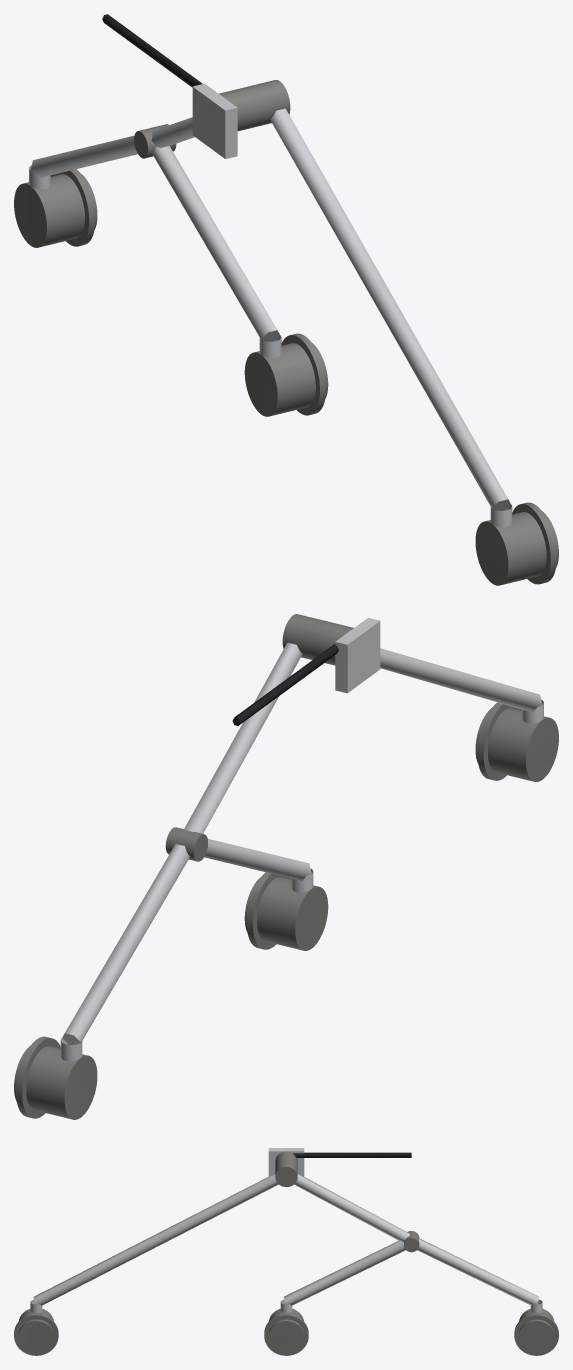
The model's file is rover16_rocker_bogie_s.glb.
3 views of the same model, one above another, from view 1: azimuth 30°, elevation 25°; view 2: azimuth 150°, elevation 25°; view 3: azimuth 270°, elevation 25° (orthographic). The views are drawn at different scales.
Visible parts, largest first — view 1: rocker, bogie_beam, wheel_flange_1, bogie_flange_2, bogie_flange_3, mount_plate, pivot, differential_link; view 2: rocker, bogie_beam, bogie_flange_3, wheel_flange_1, bogie_flange_2, mount_plate, pivot, differential_link, bogie_pivot; view 3: rocker, bogie_beam, bogie_flange_2, wheel_flange_1, bogie_flange_3, pivot, differential_link, mount_plate.
Part boxes in pixels (x1,y1,x2,y2): rocker: (151, 108, 512, 527); bogie_beam: (29, 135, 281, 358); wheel_flange_1: (475, 502, 558, 585); bogie_flange_2: (244, 333, 328, 416); bogie_flange_3: (14, 169, 97, 247); mount_plate: (192, 83, 237, 158); pivot: (219, 80, 290, 131); differential_link: (102, 14, 202, 87); rocker: (184, 642, 543, 833); bogie_beam: (60, 839, 313, 1061); bogie_flange_3: (14, 1036, 97, 1119); wheel_flange_1: (475, 702, 558, 781); bogie_flange_2: (244, 872, 328, 950); mount_plate: (335, 617, 380, 693); pivot: (282, 614, 353, 665); differential_link: (232, 644, 338, 725); bogie_pivot: (165, 827, 207, 861); rocker: (30, 1173, 409, 1312); bogie_beam: (280, 1238, 542, 1312); bogie_flange_2: (264, 1308, 308, 1355); wheel_flange_1: (14, 1309, 58, 1355); bogie_flange_3: (514, 1309, 558, 1355); pivot: (275, 1151, 297, 1187); differential_link: (293, 1152, 411, 1157); mount_plate: (268, 1148, 304, 1176).
Size of the model in its own units: 0.18 by 0.5624 by 1.52.
Materials: 3 (2 with a texture image).
